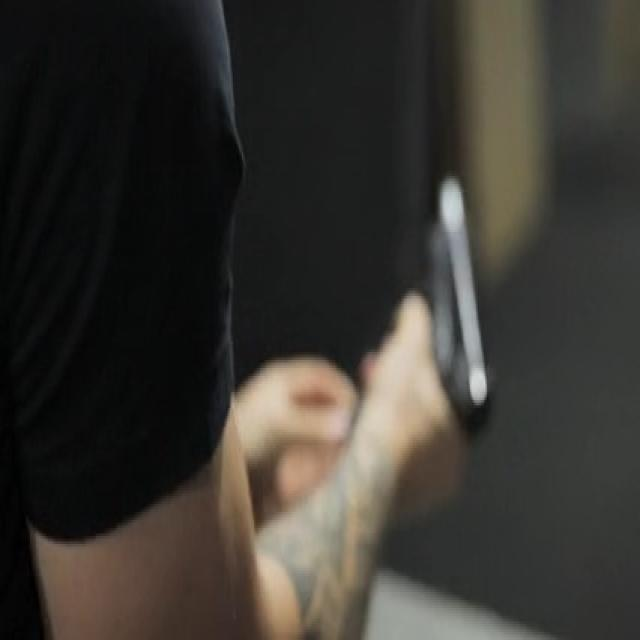Gun_Holder: (370, 164, 514, 496)
